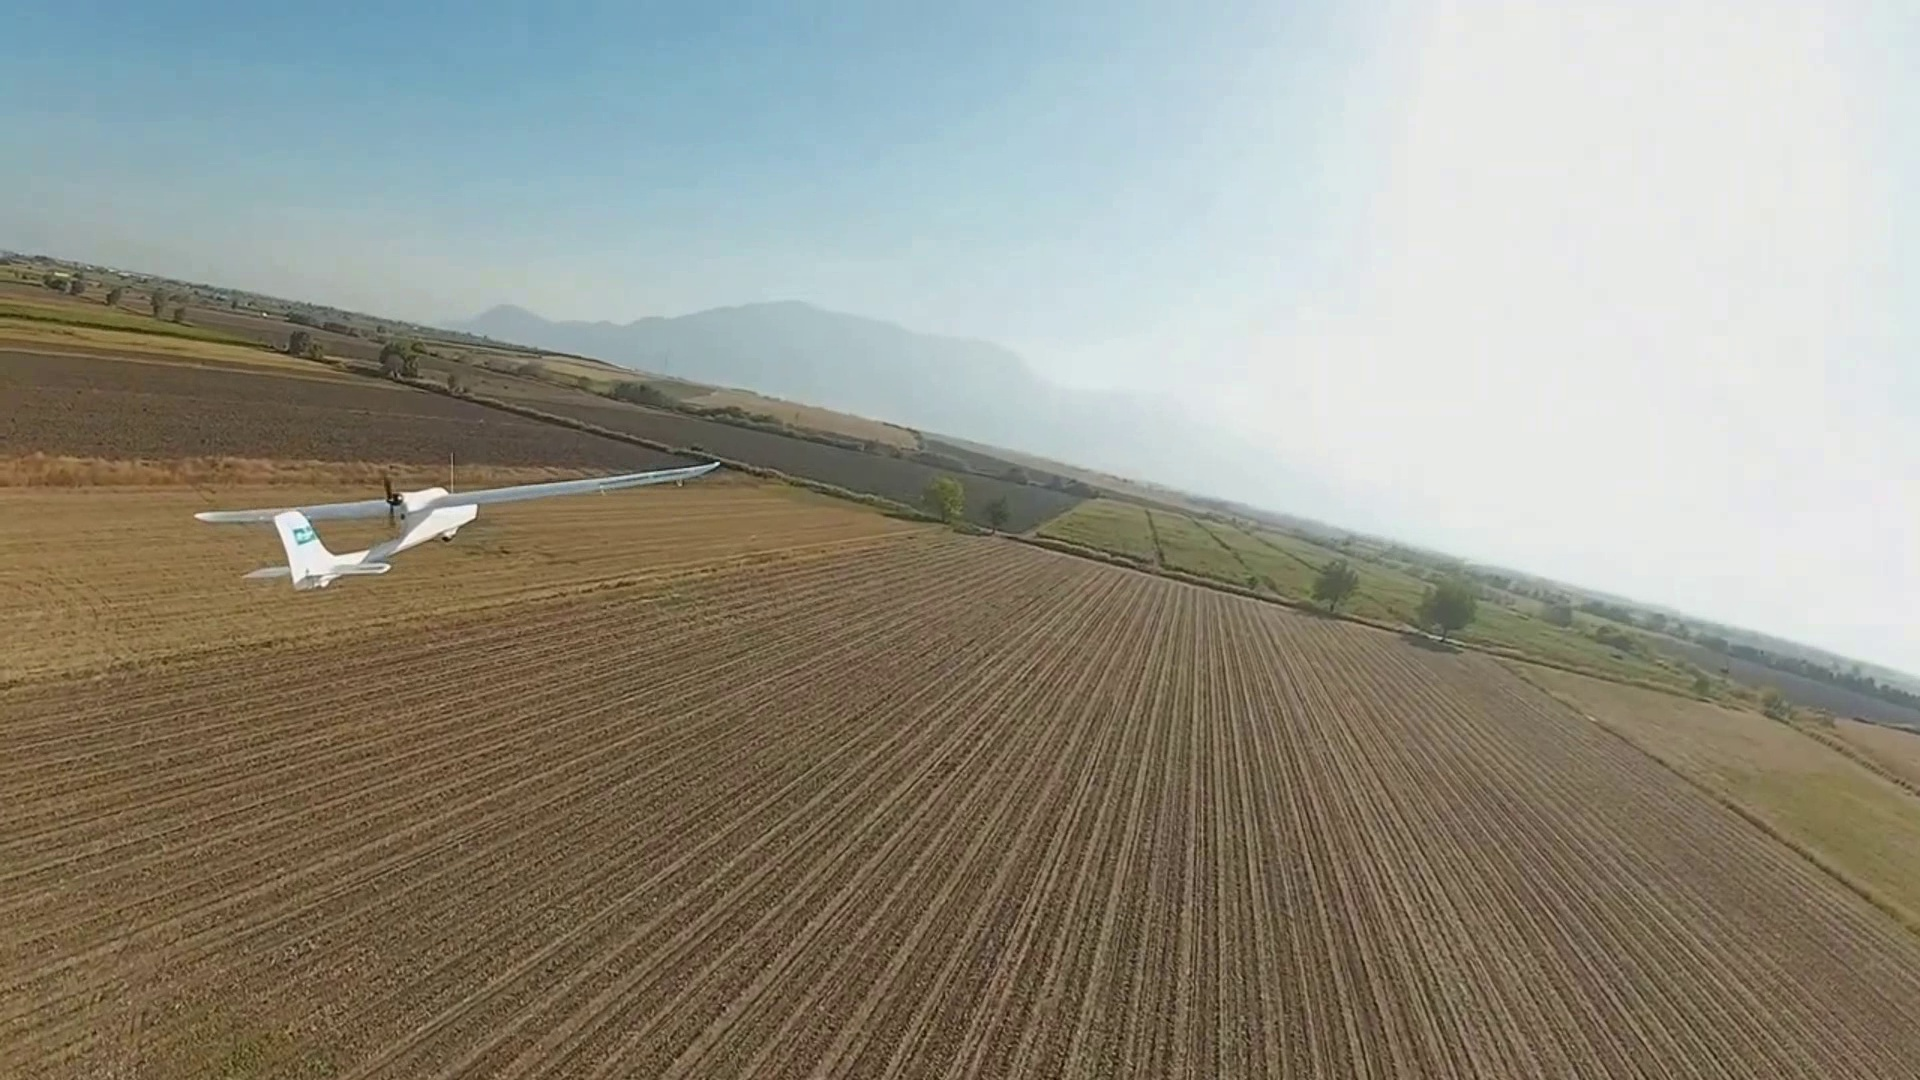airplane: (193, 456, 721, 588)
